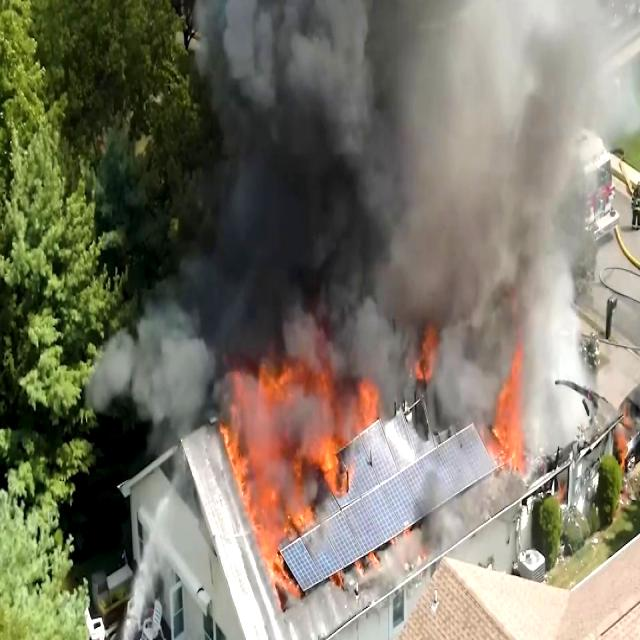fire: (205, 304, 408, 562), (472, 375, 522, 470)
smoke: (195, 0, 528, 292), (460, 0, 570, 294)
